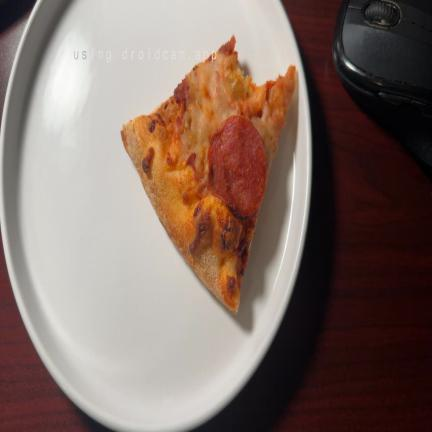pizza: (122, 37, 295, 312)
plate: (0, 0, 311, 430)
